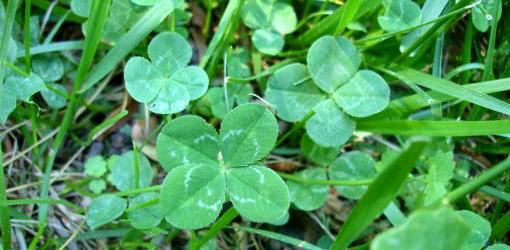clover: (155, 99, 290, 230), (267, 33, 393, 148), (123, 29, 211, 115)
